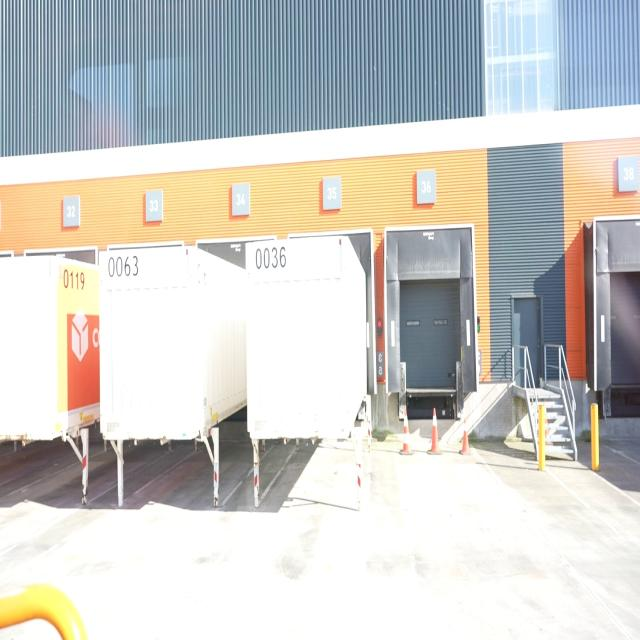Code: (254, 239, 296, 276), (100, 249, 142, 278), (56, 266, 88, 293)
